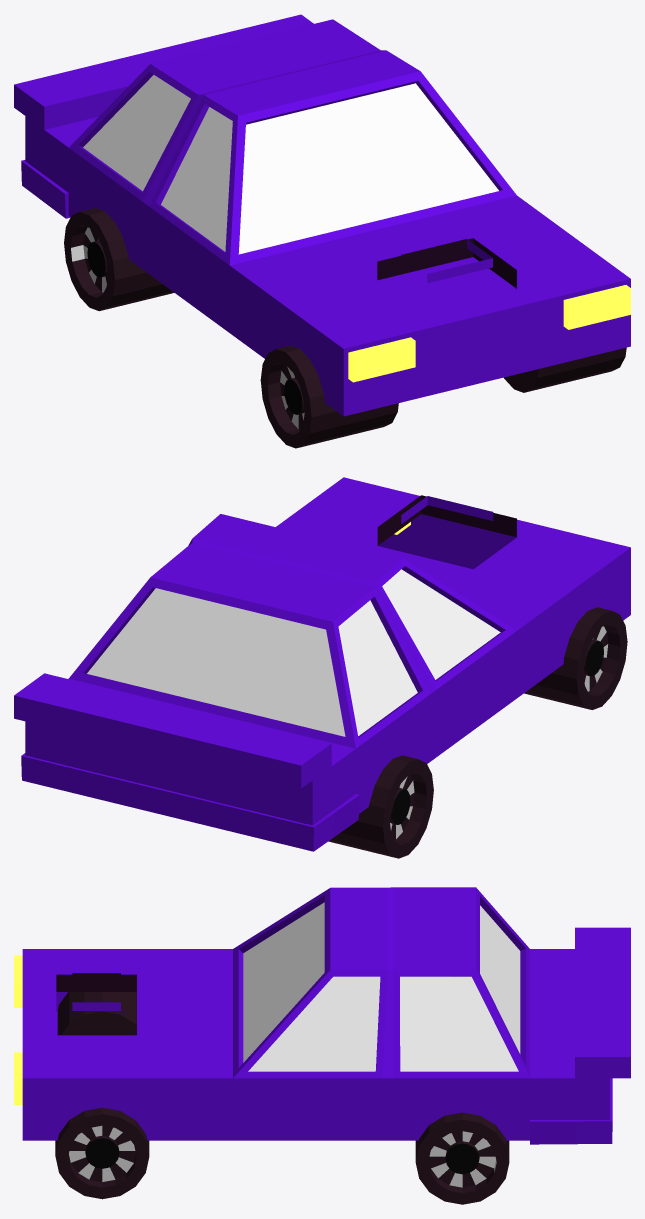
File: car02.glb
3 views of the same model, one above another, from view 1: azimuth 30°, elevation 25°; view 2: azimuth 150°, elevation 25°; view 3: azimuth 270°, elevation 25° (orthographic). The views are drawn at different scales.
Parts seen in each view (by area): view 1: Cube.003, Cylinder.004, Cylinder.002, Cube.002; view 2: Cube.003, Cylinder.002, Cylinder.004; view 3: Cube.003, Cylinder.004, Cylinder.002, Cube.002.
Part boxes in pixels (x1,y1,x2,y2): Cube.003: [14, 14, 630, 416]; Cylinder.004: [260, 345, 626, 448]; Cylinder.002: [64, 208, 174, 311]; Cube.002: [348, 285, 630, 382]; Cube.003: [14, 477, 630, 851]; Cylinder.002: [328, 755, 433, 858]; Cylinder.004: [524, 607, 627, 709]; Cube.003: [22, 887, 630, 1144]; Cylinder.004: [55, 992, 149, 1199]; Cylinder.002: [415, 1112, 509, 1204]; Cube.002: [14, 955, 22, 1104].
Bounding box in the file's own units: 3.62 × 2.44 × 6.57.
